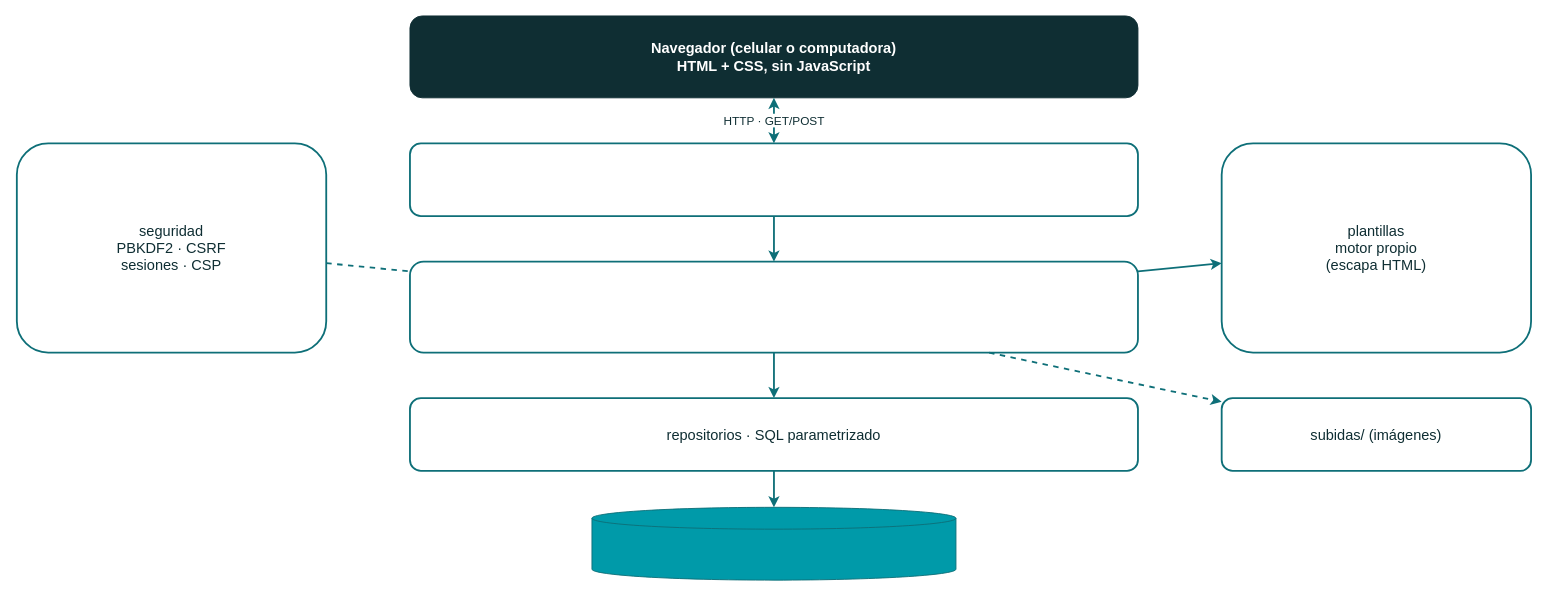
Some shapes in this 1547 by 596 pixel diagram are drawn without their labels. Each missing label, with the box of its shape:
enrutador → controladores inicio · clubes · foro · eventos · mensajes · admin: (409, 260, 1138, 353)
servidor.py · http.server (hilos): (409, 142, 1138, 217)
SQLite · vortex.db: (591, 506, 956, 580)
